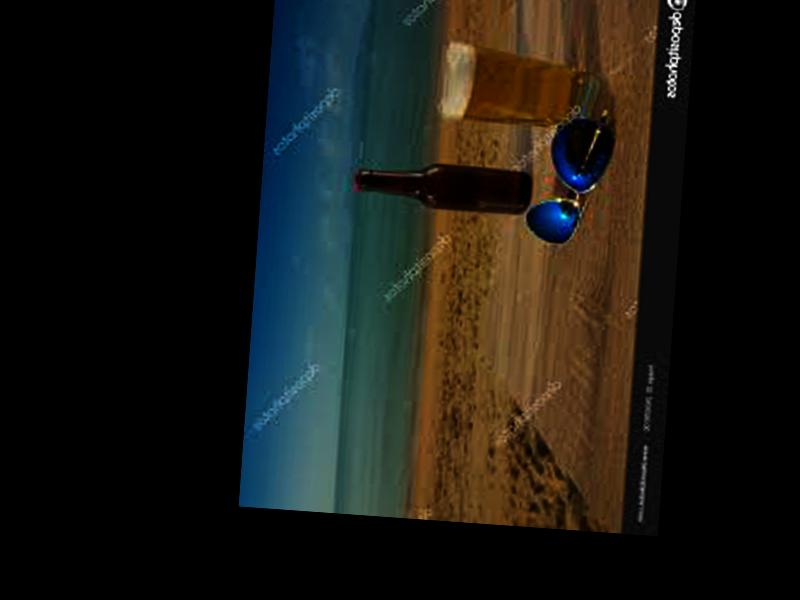Beer: (352, 158, 530, 215)
